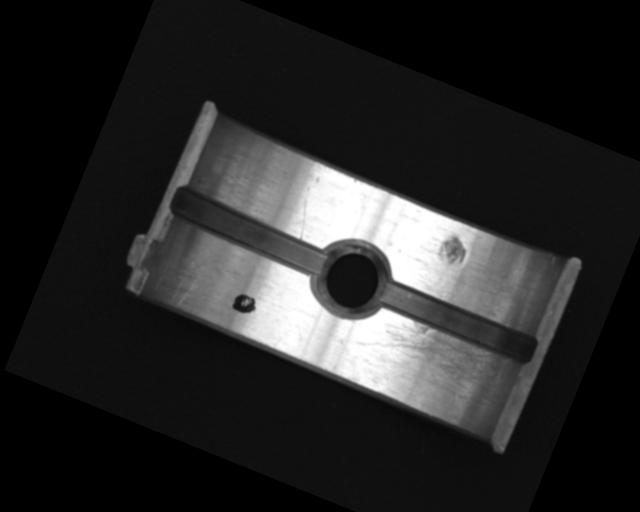blot: (229, 290, 259, 318)
bruise: (434, 232, 471, 270)
gap: (164, 181, 337, 281), (373, 274, 540, 368)
hole: (305, 229, 402, 329)
nick: (287, 185, 321, 240)
scratch: (349, 302, 521, 417)
